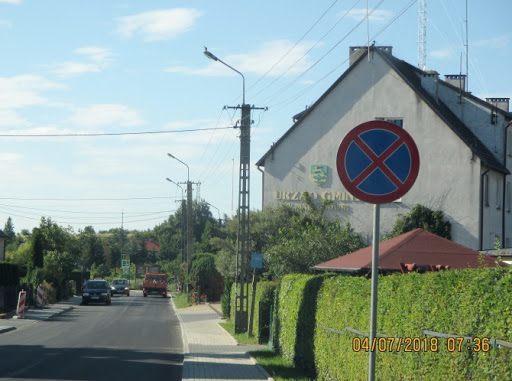no_stopping_sign: (336, 120, 420, 204)
